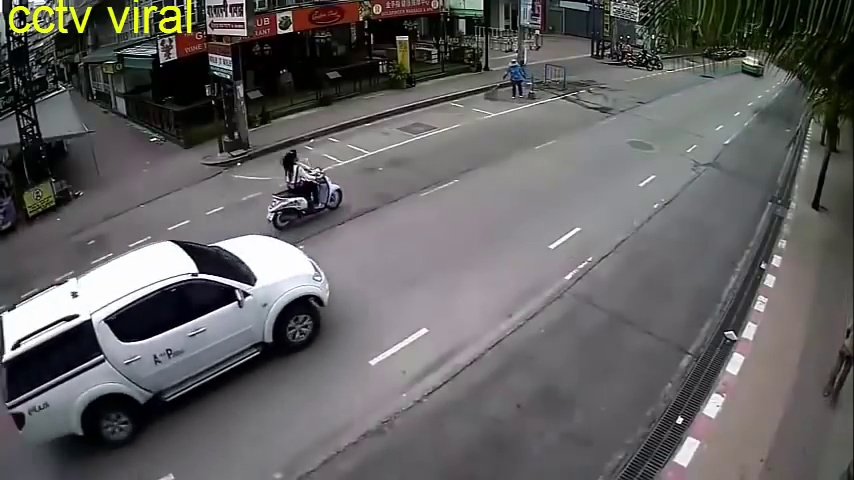car: (3, 233, 329, 445), (739, 56, 763, 78)
motorbike: (266, 151, 343, 233)
